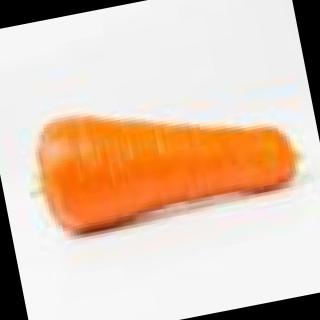Wortel: (9, 63, 310, 257)
